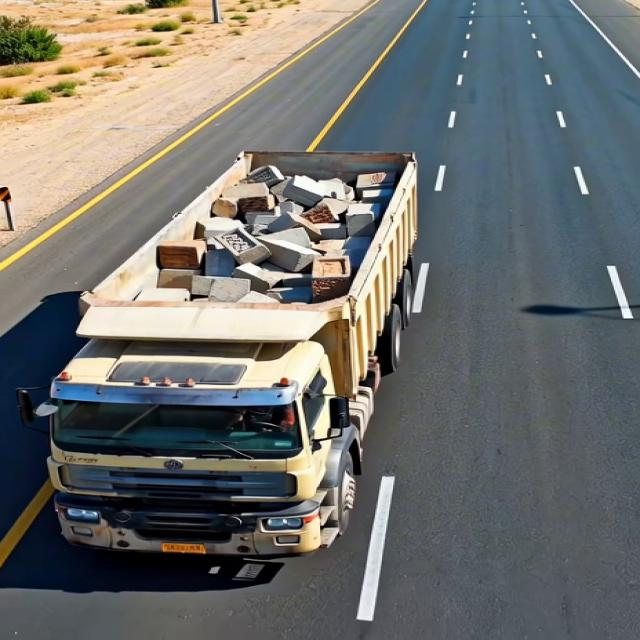trailer: (80, 150, 418, 346)
truck: (32, 141, 446, 560)
